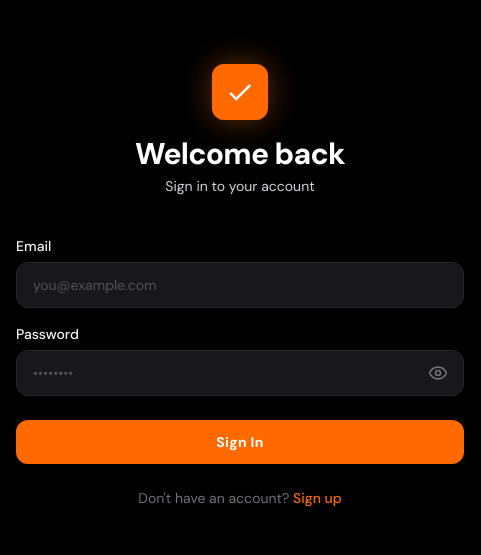
auth flow › shows an error for invalid login credentials
Type "wrong@test.com" into the field with test id "auth-login-email".
click(240, 285); type("wrong@test.com")  # box [16,262,464,308]
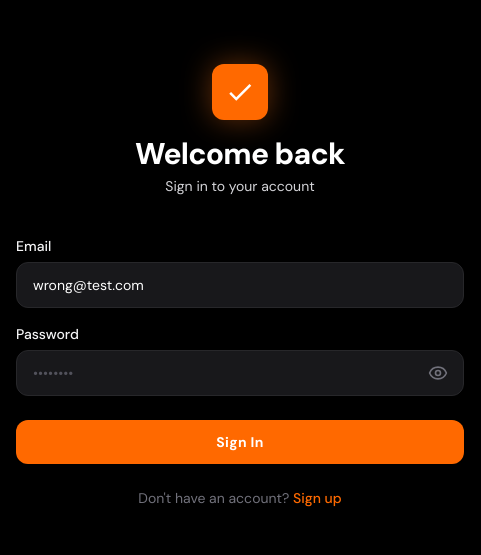
Type "wrong" into the password field with test id "auth-login-password".
click(240, 373); type("wrong")  # box [16,350,464,396]
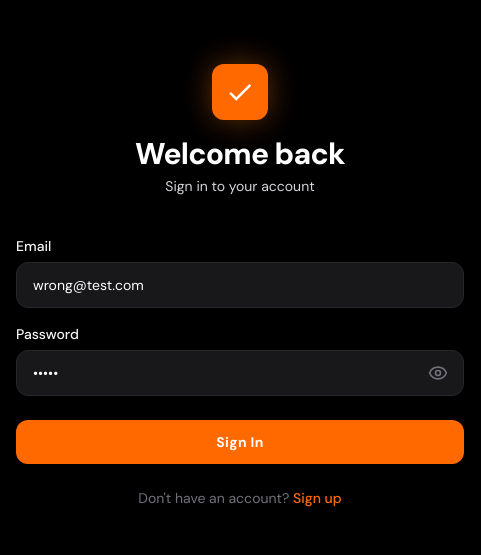
Click the button with test id "auth-login-submit".
click(240, 442)  # box [16,420,464,464]
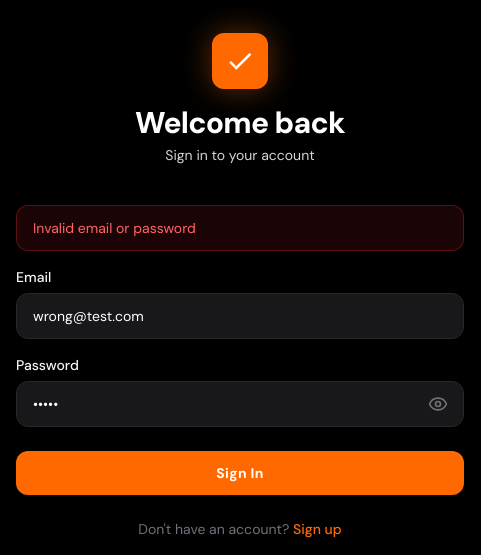
Expected: the text "Invalid email or password" is shown, [16,205,464,251]
